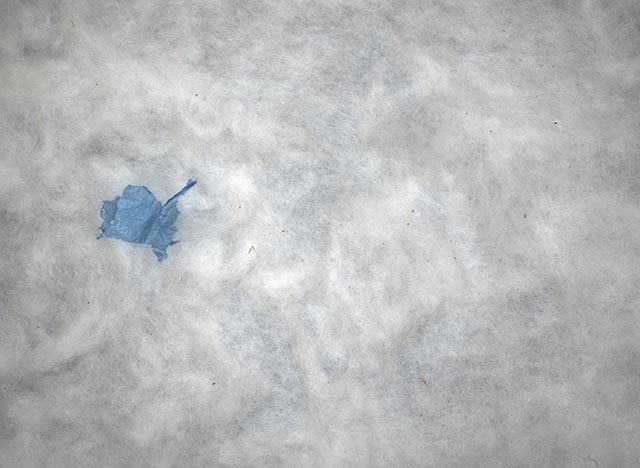plastic film: (96, 177, 198, 265)
